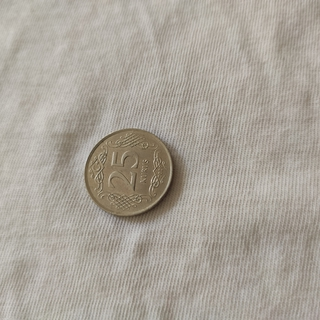25KURUS: (82, 126, 175, 218)
